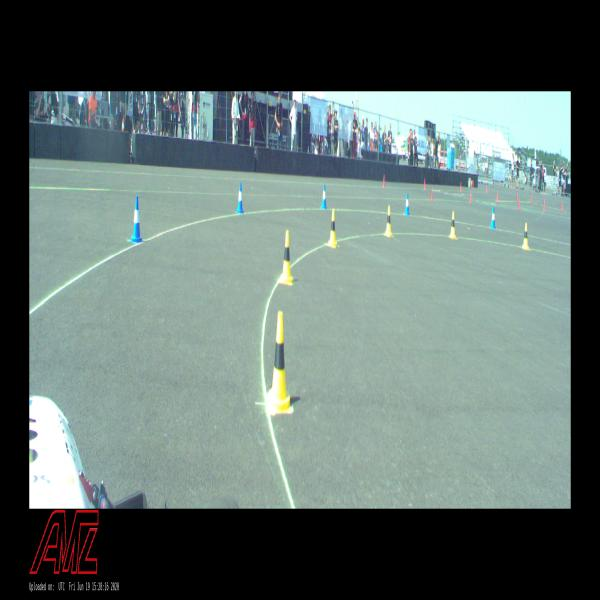blue_cone: (129, 195, 142, 244), (237, 181, 244, 214), (321, 184, 327, 209), (404, 192, 410, 216), (490, 207, 496, 229)
yellow_cone: (267, 313, 291, 414), (280, 230, 293, 286), (328, 208, 337, 249), (385, 205, 392, 237), (449, 211, 456, 240), (522, 222, 529, 250)
